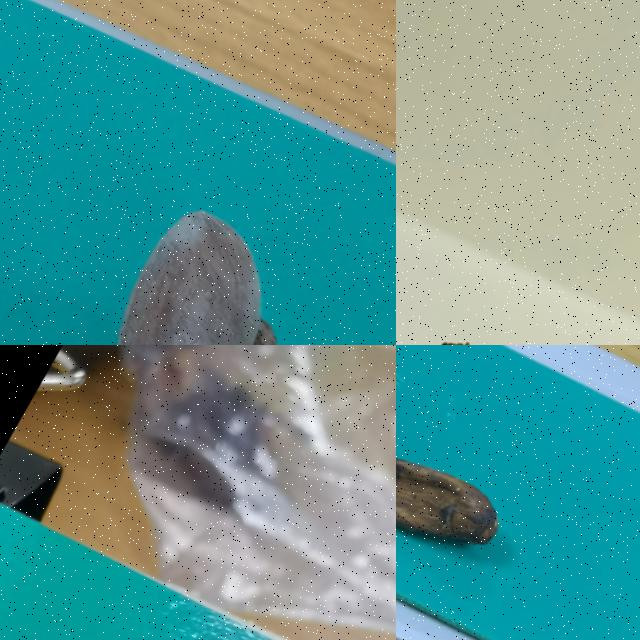Agglomerated_cocoabeans: (0, 145, 395, 344)
Flat_cocoabeans: (396, 360, 614, 627), (396, 186, 639, 344)
